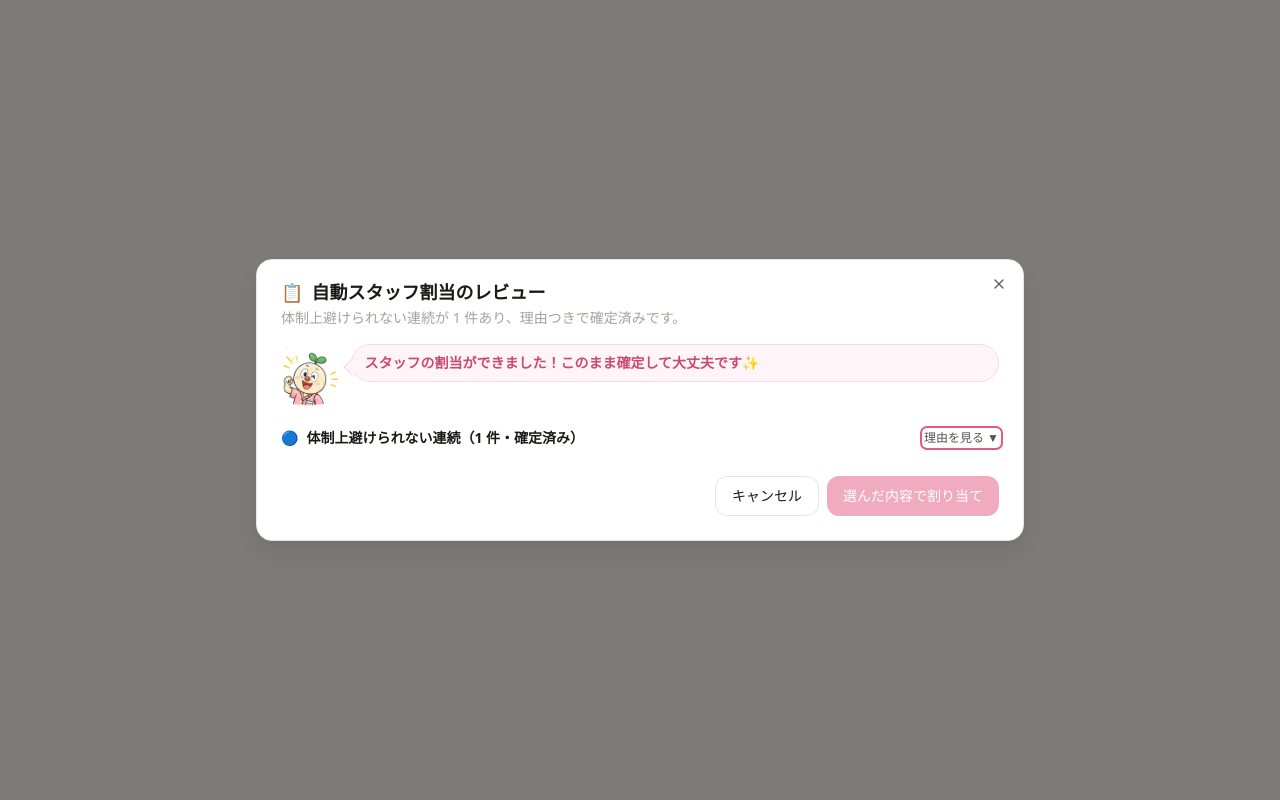
Scenario: AssignWarningDialog — Wave N-2 notices セクション › 「理由を見る ▼」を押すと行が表示される
// トグルボタンをクリックして展開
Click the button "理由を見る ▼": (962, 438) [924, 430, 999, 446]
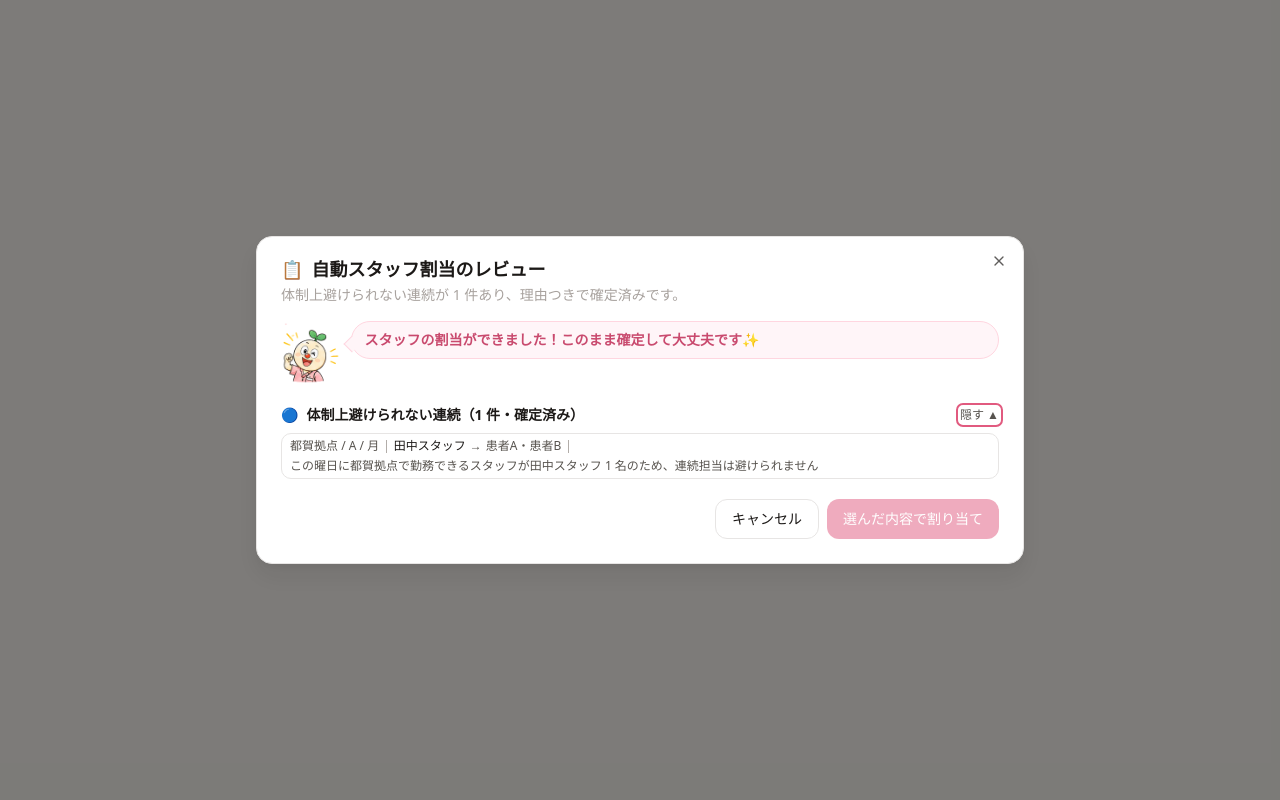
Expected: the list item with test id "assign-notice-row" is shown, [281, 433, 999, 479]
Expected: the list item with test id "assign-notice-row" shows "都賀拠点", [290, 437, 338, 454]
Expected: the list item with test id "assign-notice-row" shows "A", [349, 437, 356, 454]
